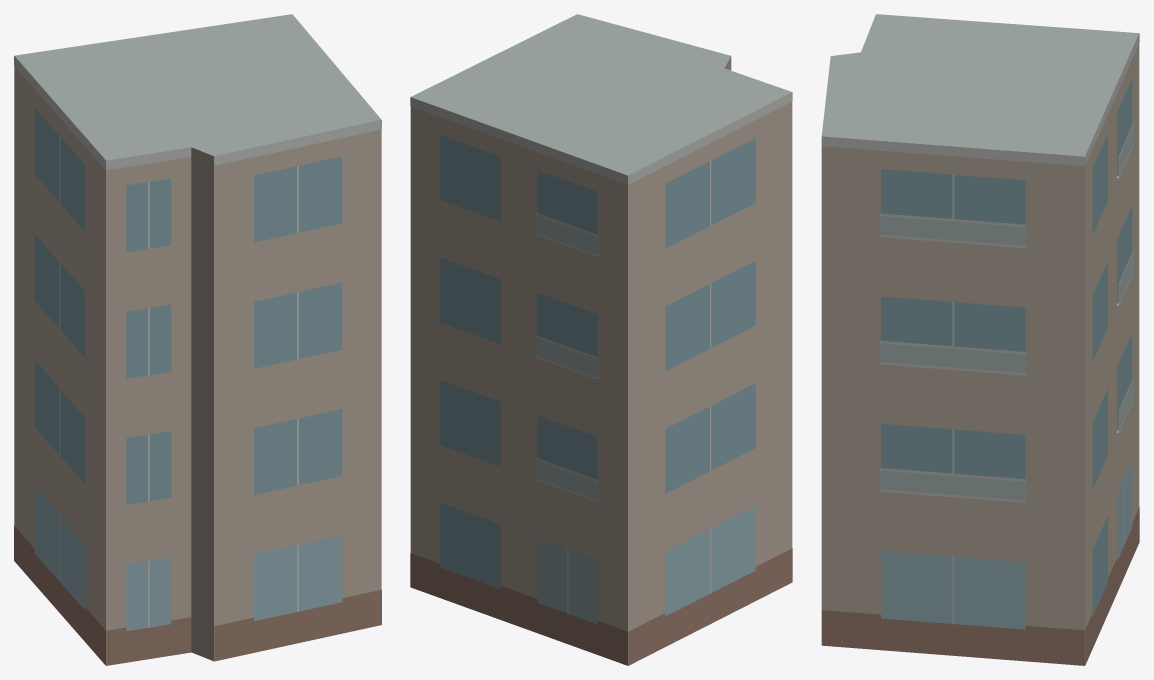
File: survey-upis-32469889.glb
The picture shows the model from 3 angles, left to right: view 1: azimuth 30°, elevation 25°; view 2: azimuth 150°, elevation 25°; view 3: azimuth 270°, elevation 25°; orthographic projection. The views are drawn at different scales.
Visible parts, largest first — view 1: survey-upis-32469889.tmp; view 2: survey-upis-32469889.tmp; view 3: survey-upis-32469889.tmp.
Part boxes in pixels (x1=…): survey-upis-32469889.tmp: x1=14, y1=14, x2=381, y2=665; survey-upis-32469889.tmp: x1=410, y1=14, x2=792, y2=665; survey-upis-32469889.tmp: x1=821, y1=14, x2=1139, y2=665.
Size of the model in its own units: 7.7 by 12.8 by 7.25.
